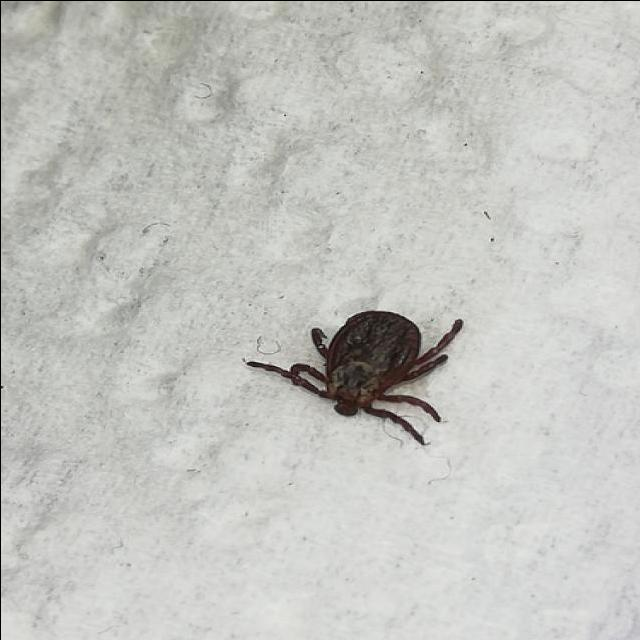Dermacentor Reticulatus-F: (244, 310, 463, 445)
